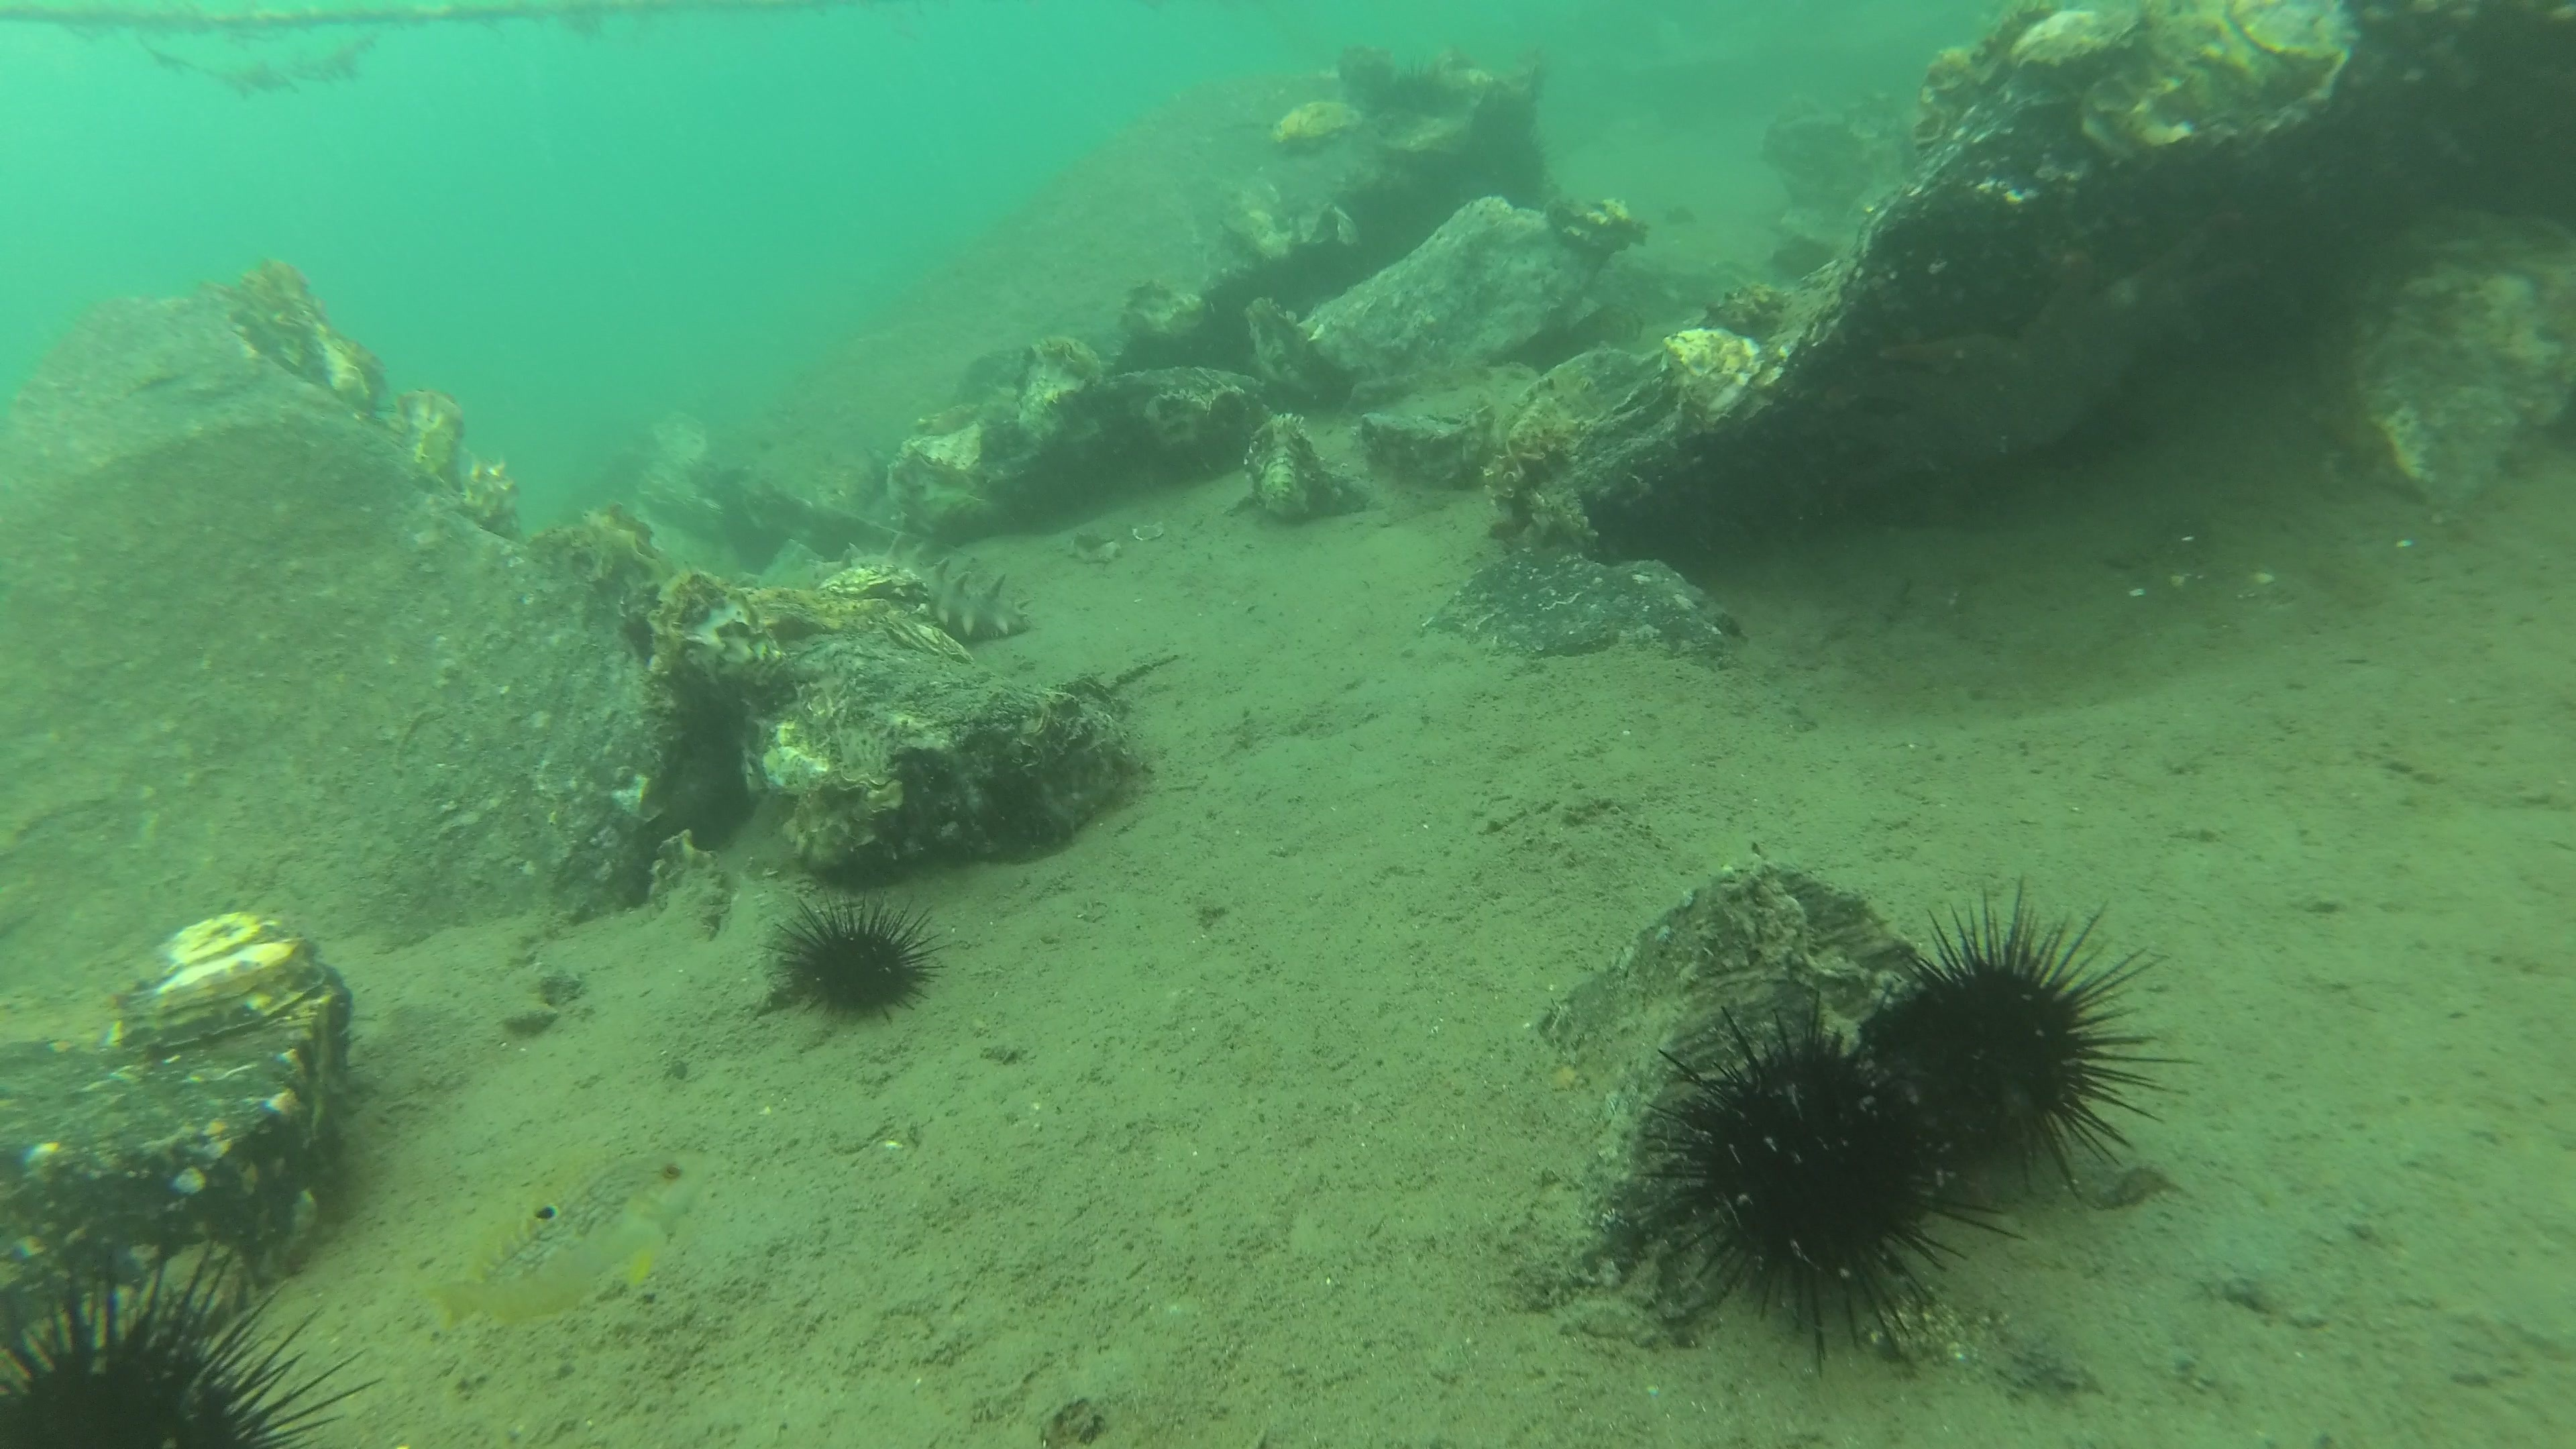echinus: (1626, 993, 2035, 1384), (1884, 867, 2204, 1205), (0, 1223, 386, 1449), (755, 885, 952, 1026), (1378, 55, 1447, 117), (1507, 129, 1552, 198), (1663, 203, 1697, 226)
holothurian: (809, 531, 1037, 640)
starfish: (1854, 221, 2243, 488)
